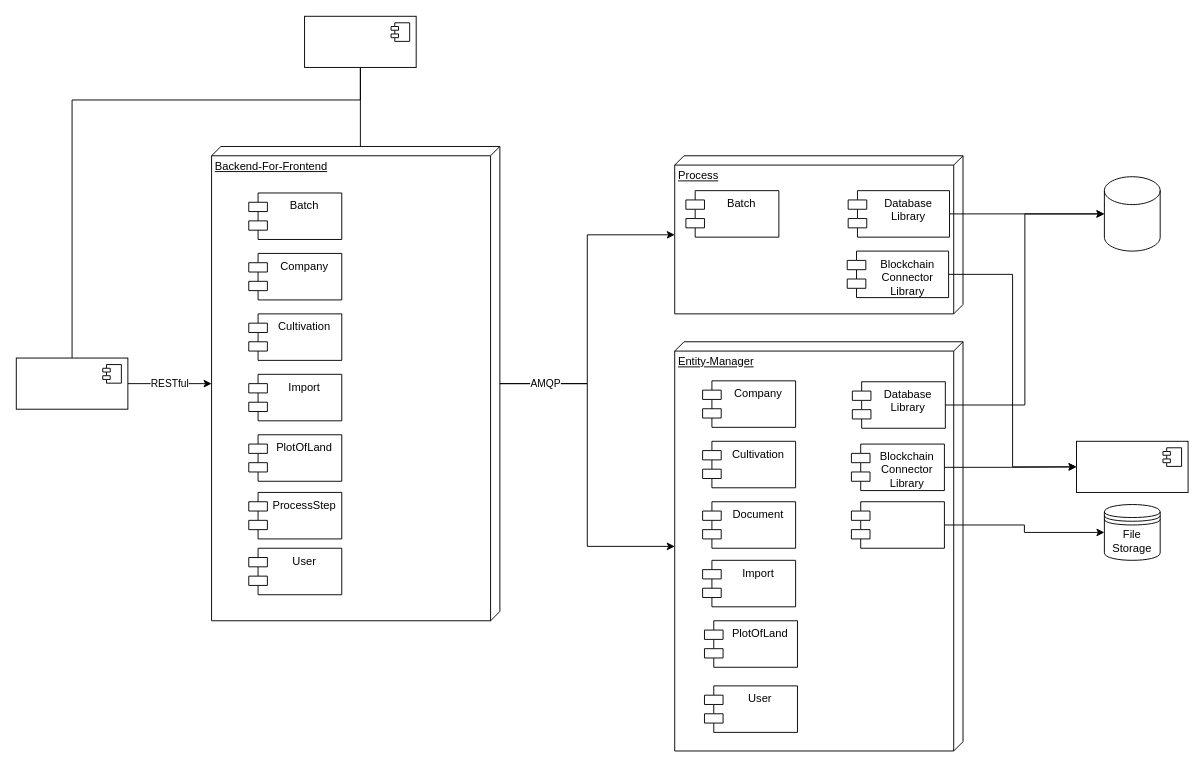
This 1204x767 diagram has some shape labels left out. Here are the shapes that lost their labels. From the top down, the centre of each, then its label:
At (x=360, y=41): "Keycloak".
At (x=1131, y=213): "Database".
At (x=71, y=383): "Frontend".
At (x=1132, y=466): "Blockchain Connector".
At (x=897, y=524): "File Storage Library".
